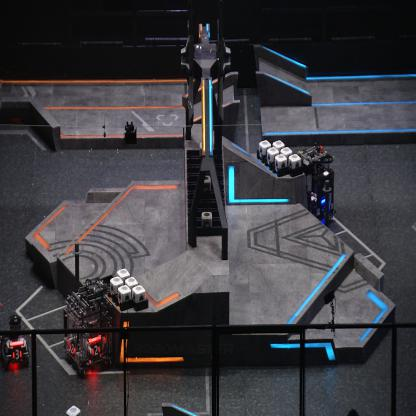car: (63, 276, 115, 375), (294, 146, 336, 223), (0, 313, 32, 371)
